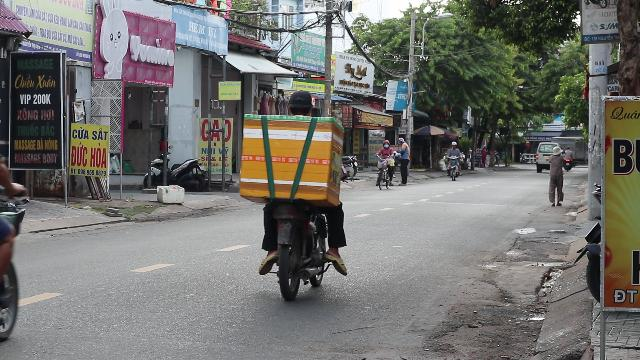motorcyclist: (236, 84, 352, 301)
nohelmet: (286, 89, 312, 115)
